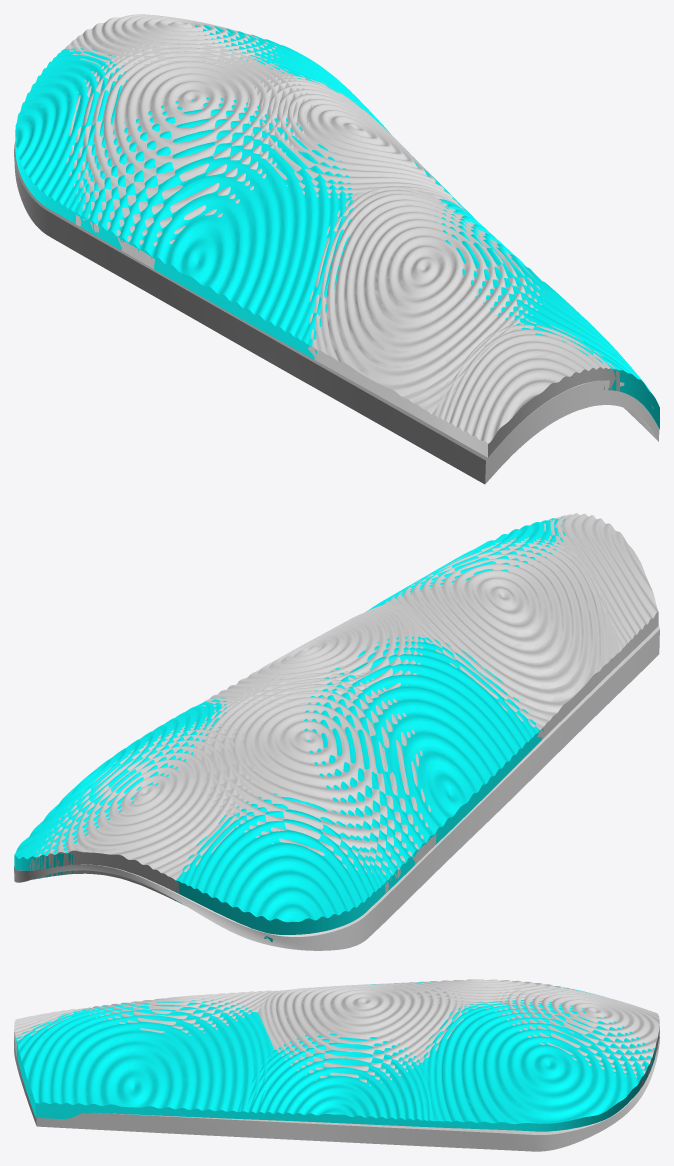
File: ripples-coffin-web.glb
3 views of the same model, one above another, from view 1: azimuth 30°, elevation 25°; view 2: azimuth 150°, elevation 25°; view 3: azimuth 270°, elevation 25° (orthographic). The views are drawn at different scales.
Bounding box in the file's own units: 0.0137 × 0.00649 × 0.035.
